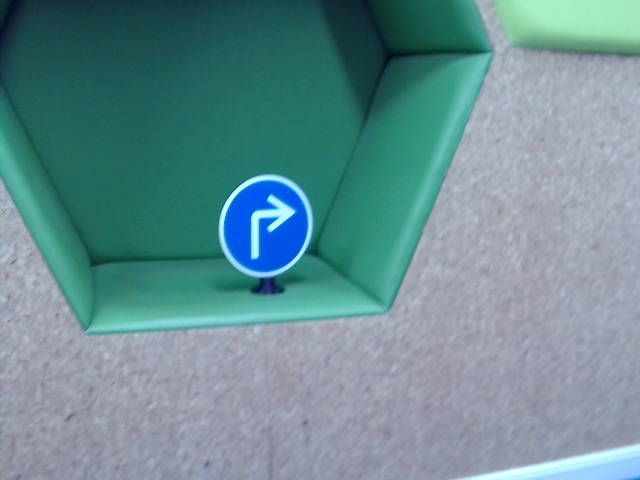turn_right: (246, 195, 292, 261)
